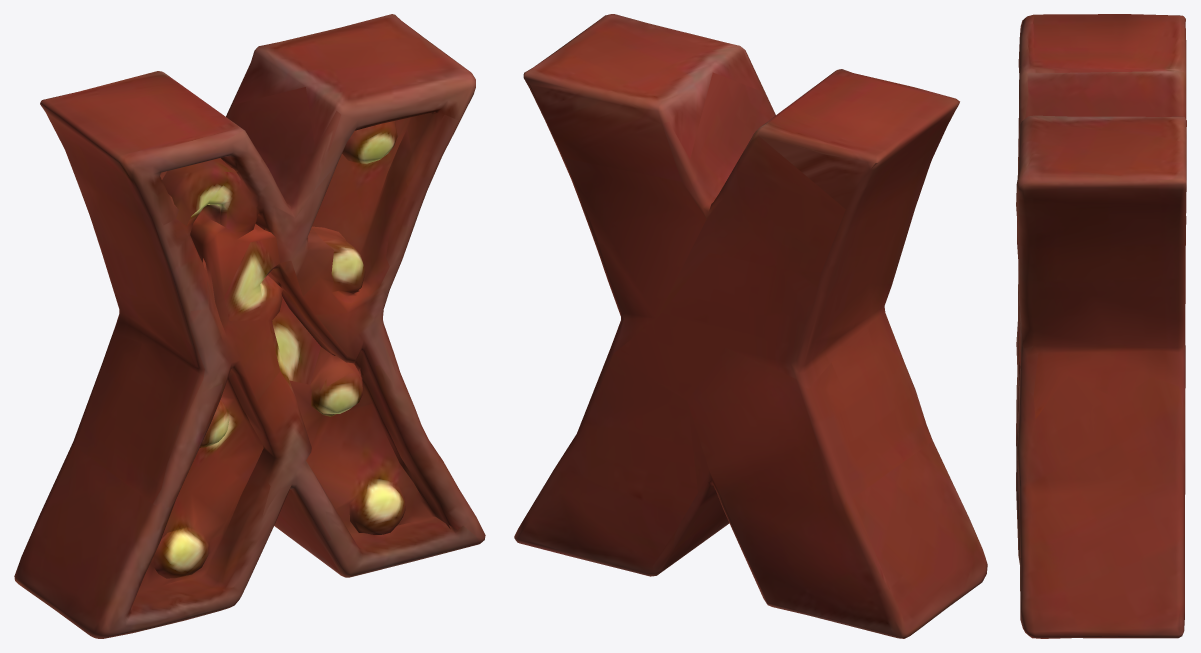
Rendered from letter_x_idle.glb.
3 renders of one model, left to right at view 1: azimuth 30°, elevation 25°; view 2: azimuth 150°, elevation 25°; view 3: azimuth 270°, elevation 25°, orthographic. The views are drawn at different scales.
Parts seen in each view (by area): view 1: tmp_letters_u_z_0_3_03; view 2: tmp_letters_u_z_0_3_03; view 3: tmp_letters_u_z_0_3_03.
Boxes of the visible parts, x1,y1,x2,y2 form: tmp_letters_u_z_0_3_03: (14, 14, 485, 638); tmp_letters_u_z_0_3_03: (514, 14, 987, 638); tmp_letters_u_z_0_3_03: (1016, 14, 1186, 638).
Size of the model in its own units: 0.8611 by 0.9962 by 0.3365.
Materials: 1 (1 with a texture image).
